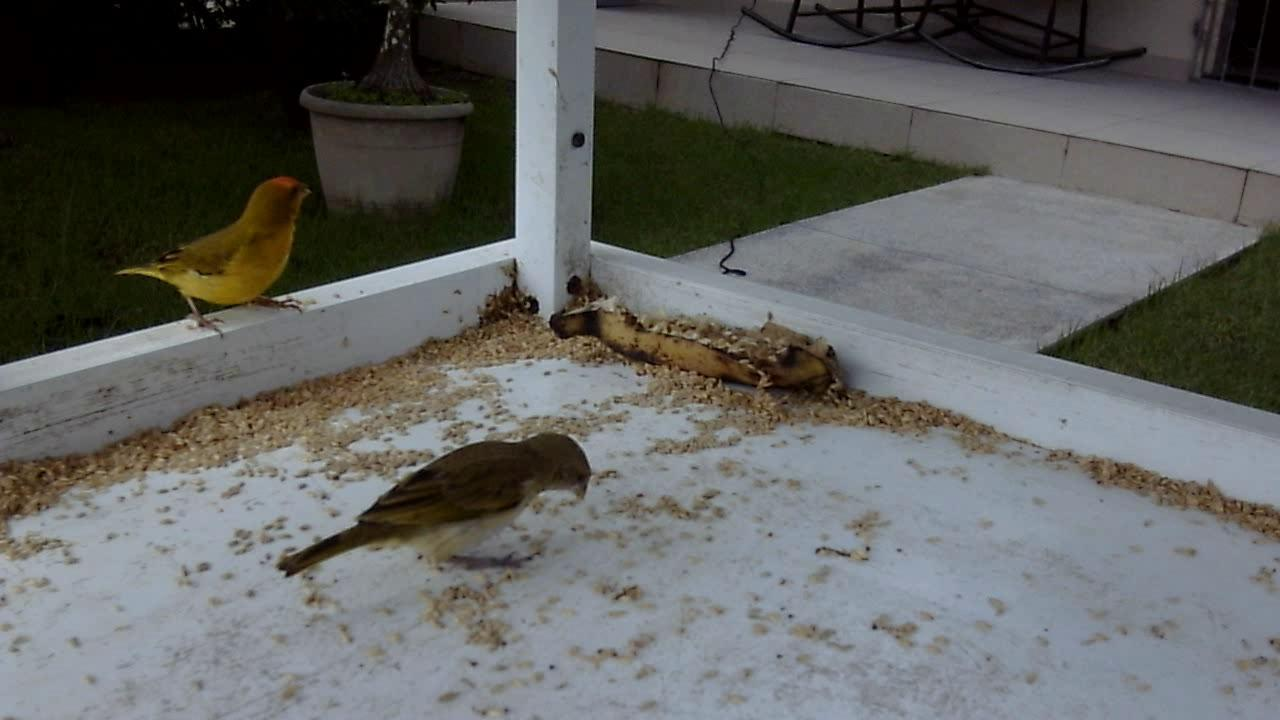canario_do_amazonas: (267, 426, 597, 587), (108, 173, 323, 346)
